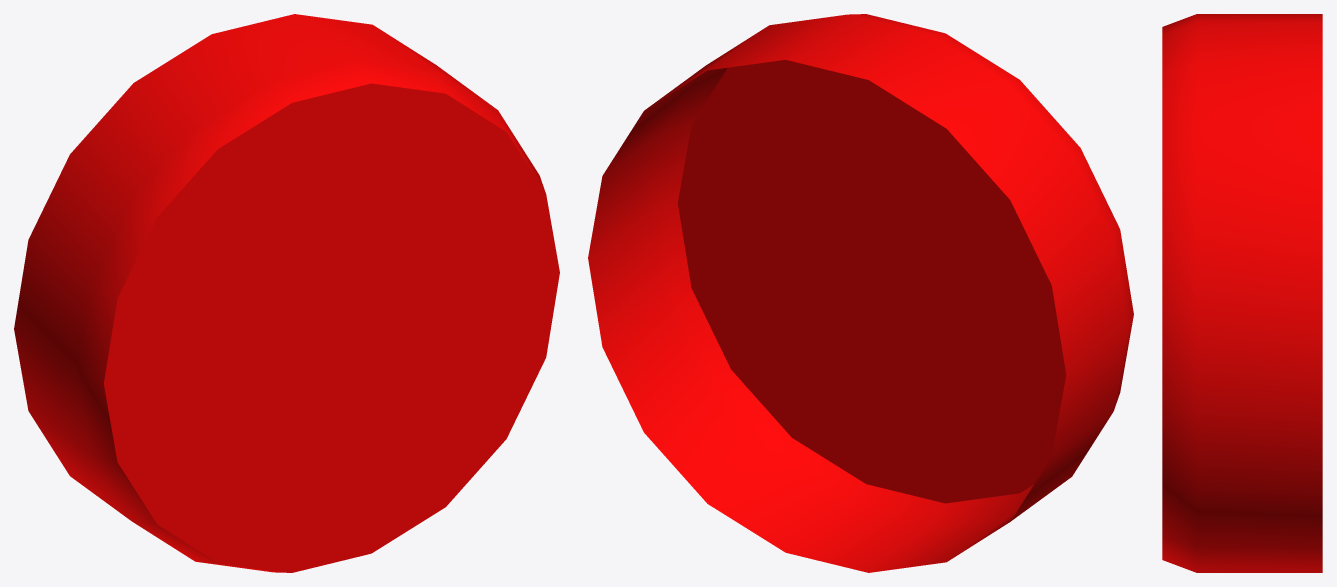
The model's file is ANNiu1.fbx.
3 views of the same model, side by side, from view 1: azimuth 30°, elevation 25°; view 2: azimuth 150°, elevation 25°; view 3: azimuth 270°, elevation 25° (orthographic).
Parts seen in each view (by area): view 1: Cylinder005; view 2: Cylinder005; view 3: Cylinder005.
Boxes of the visible parts, left/top/right/bottom form: Cylinder005: left=14, top=14, right=559, bottom=572; Cylinder005: left=588, top=14, right=1133, bottom=572; Cylinder005: left=1162, top=14, right=1322, bottom=572.
Bounding box in the file's own units: 7.79 × 7.67 × 2.22.
Materials: 1 (1 with a texture image).
